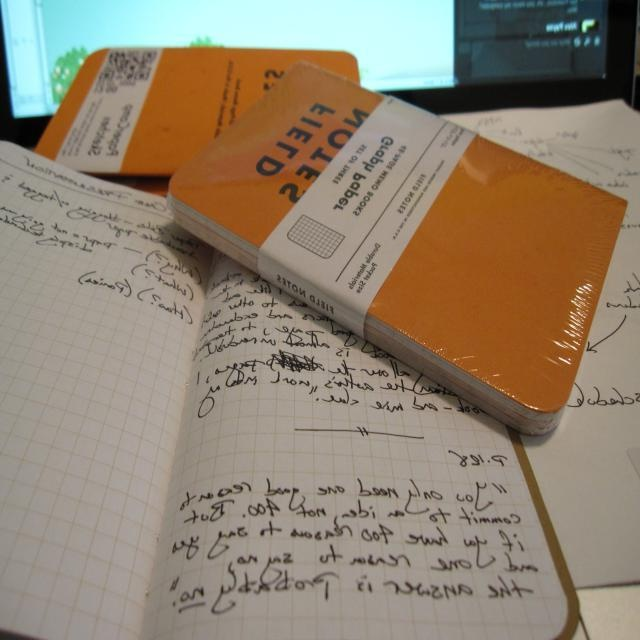qr-code: (99, 51, 156, 80)
